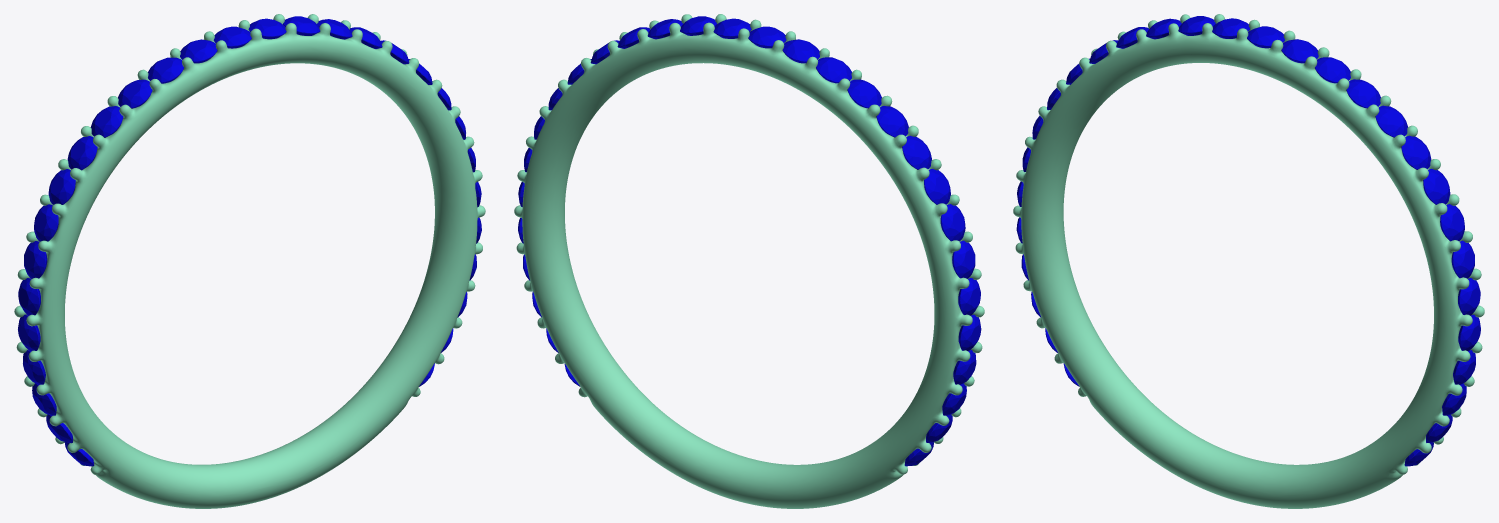
3 renders of one model, left to right at view 1: azimuth 30°, elevation 25°; view 2: azimuth 150°, elevation 25°; view 3: azimuth 330°, elevation 25°, orthographic.
Parts seen in each view (by area): view 1: Metal03, Diamond_Band.024, Diamond_Band.025, Diamond_Band.023, Diamond_Band.026, Diamond_Band.022, Diamond_Band.027, Diamond_Band.021, Diamond_Band.028, Diamond_Band.020, Diamond_Band.029, Diamond_Band.019 (+1 smaller); view 2: Metal03, Diamond_Band.024, Diamond_Band.025, Diamond_Band.023, Diamond_Band.026, Diamond_Band.022, Diamond_Band.027, Diamond_Band.021, Diamond_Band.028, Diamond_Band.020, Diamond_Band.029, Diamond_Band.019 (+1 smaller); view 3: Metal03, Diamond_Band.009, Diamond_Band.010, Diamond_Band.008, Diamond_Band.011, Diamond_Band.007, Diamond_Band.012, Diamond_Band.006, Diamond_Band.013, Diamond_Band.005, Diamond_Band.014, Diamond_Band.004 (+1 smaller).
Part boxes in pixels (x1=…): Metal03: x1=14, y1=14, x2=485, y2=508; Diamond_Band.024: x1=67, y1=136, x2=97, y2=170; Diamond_Band.025: x1=90, y1=106, x2=123, y2=137; Diamond_Band.023: x1=48, y1=169, x2=75, y2=204; Diamond_Band.026: x1=118, y1=79, x2=152, y2=108; Diamond_Band.022: x1=34, y1=204, x2=58, y2=241; Diamond_Band.027: x1=148, y1=57, x2=183, y2=83; Diamond_Band.021: x1=24, y1=241, x2=47, y2=278; Diamond_Band.028: x1=180, y1=39, x2=217, y2=63; Diamond_Band.020: x1=18, y1=278, x2=40, y2=315; Diamond_Band.029: x1=213, y1=26, x2=251, y2=48; Diamond_Band.019: x1=18, y1=314, x2=40, y2=351; Metal03: x1=514, y1=14, x2=984, y2=508; Diamond_Band.024: x1=902, y1=135, x2=931, y2=169; Diamond_Band.025: x1=876, y1=106, x2=908, y2=137; Diamond_Band.023: x1=924, y1=169, x2=950, y2=204; Diamond_Band.026: x1=847, y1=79, x2=881, y2=108; Diamond_Band.022: x1=940, y1=204, x2=965, y2=241; Diamond_Band.027: x1=816, y1=57, x2=851, y2=83; Diamond_Band.021: x1=952, y1=240, x2=975, y2=278; Diamond_Band.028: x1=782, y1=39, x2=819, y2=63; Diamond_Band.020: x1=958, y1=278, x2=980, y2=315; Diamond_Band.029: x1=748, y1=26, x2=786, y2=48; Diamond_Band.019: x1=958, y1=314, x2=981, y2=351; Metal03: x1=1013, y1=14, x2=1484, y2=508; Diamond_Band.009: x1=1401, y1=135, x2=1431, y2=169; Diamond_Band.010: x1=1375, y1=105, x2=1407, y2=137; Diamond_Band.008: x1=1423, y1=168, x2=1450, y2=204; Diamond_Band.011: x1=1346, y1=79, x2=1380, y2=108; Diamond_Band.007: x1=1440, y1=204, x2=1464, y2=241; Diamond_Band.012: x1=1315, y1=57, x2=1350, y2=83; Diamond_Band.006: x1=1451, y1=240, x2=1474, y2=278; Diamond_Band.013: x1=1281, y1=39, x2=1318, y2=63; Diamond_Band.005: x1=1458, y1=278, x2=1480, y2=315; Diamond_Band.014: x1=1247, y1=26, x2=1284, y2=48; Diamond_Band.004: x1=1458, y1=314, x2=1480, y2=351.
Size of the model in its own units: 21.03 by 20.93 by 1.92.
